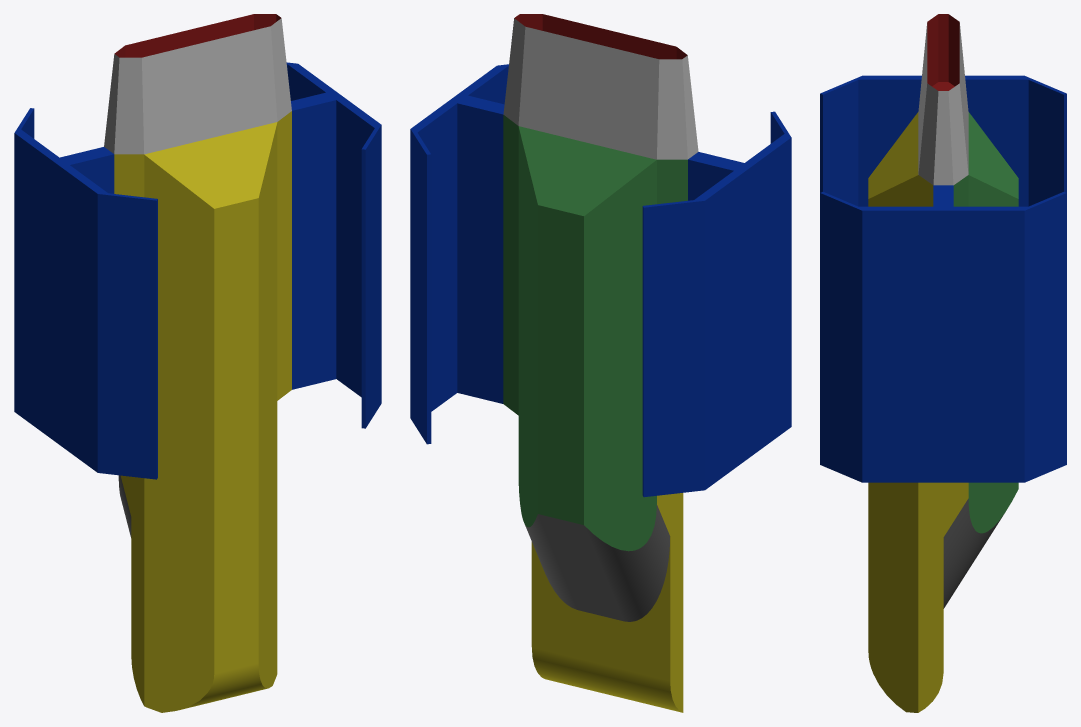
Rendered from Ship_5.fbx.
The picture shows the model from 3 angles, left to right: view 1: azimuth 30°, elevation 25°; view 2: azimuth 150°, elevation 25°; view 3: azimuth 270°, elevation 25°; orthographic projection. The views are drawn at different scales.
Parts seen in each view (by area): view 1: 3DGeom~69, 3DGeom~64, 3DGeom~66, 3DGeom~68; view 2: 3DGeom~64, 3DGeom~67, 3DGeom~66, 3DGeom~69, 3DGeom~65, 3DGeom~68; view 3: 3DGeom~64, 3DGeom~69, 3DGeom~67, 3DGeom~66, 3DGeom~65, 3DGeom~68.
Part boxes in pixels (<box>): 3DGeom~69: <box>114,111,291,712</box>; 3DGeom~64: <box>14,62,381,479</box>; 3DGeom~66: <box>104,18,291,154</box>; 3DGeom~68: <box>114,14,280,57</box>; 3DGeom~64: <box>410,64,791,497</box>; 3DGeom~67: <box>503,115,687,551</box>; 3DGeom~66: <box>503,18,698,159</box>; 3DGeom~69: <box>531,493,683,712</box>; 3DGeom~65: <box>525,505,669,621</box>; 3DGeom~68: <box>514,14,687,59</box>; 3DGeom~64: <box>820,75,1066,482</box>; 3DGeom~69: <box>868,112,968,712</box>; 3DGeom~67: <box>953,112,1018,533</box>; 3DGeom~66: <box>918,23,968,185</box>; 3DGeom~65: <box>943,498,1003,608</box>; 3DGeom~68: <box>927,14,959,90</box>.
Bounding box in the file's own units: 0.0639 × 0.0493 × 0.1397.
